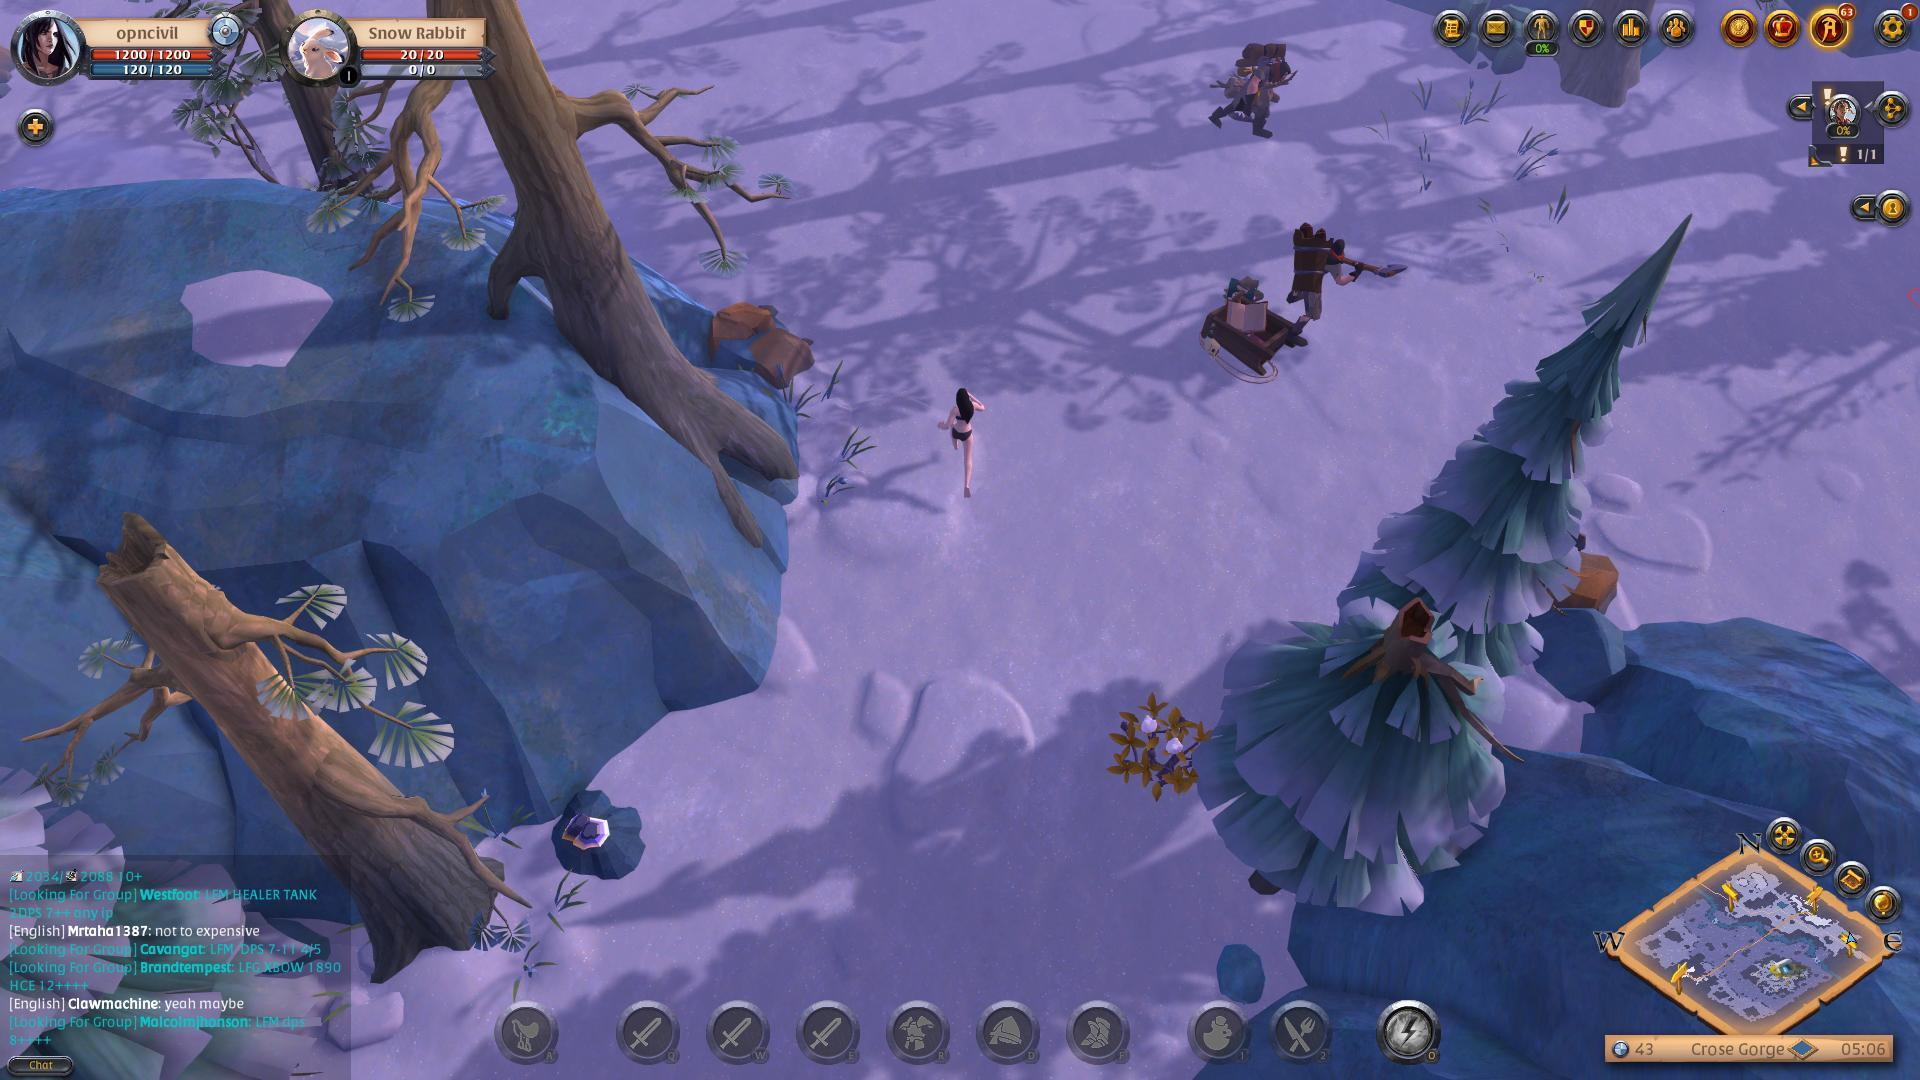copper_ore: (539, 769, 651, 887)
cotton: (1105, 704, 1221, 806)
mob: (1280, 219, 1427, 336), (1211, 33, 1305, 146)
